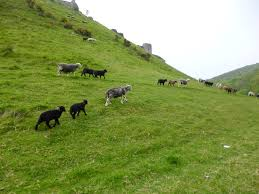sheep: (36, 107, 65, 129), (55, 56, 82, 77), (105, 83, 134, 102), (68, 100, 92, 117), (90, 64, 110, 83), (80, 65, 96, 81), (175, 78, 191, 89), (196, 78, 212, 89), (154, 77, 167, 90), (215, 81, 228, 92), (241, 91, 256, 100), (167, 77, 177, 89), (84, 35, 96, 44)
